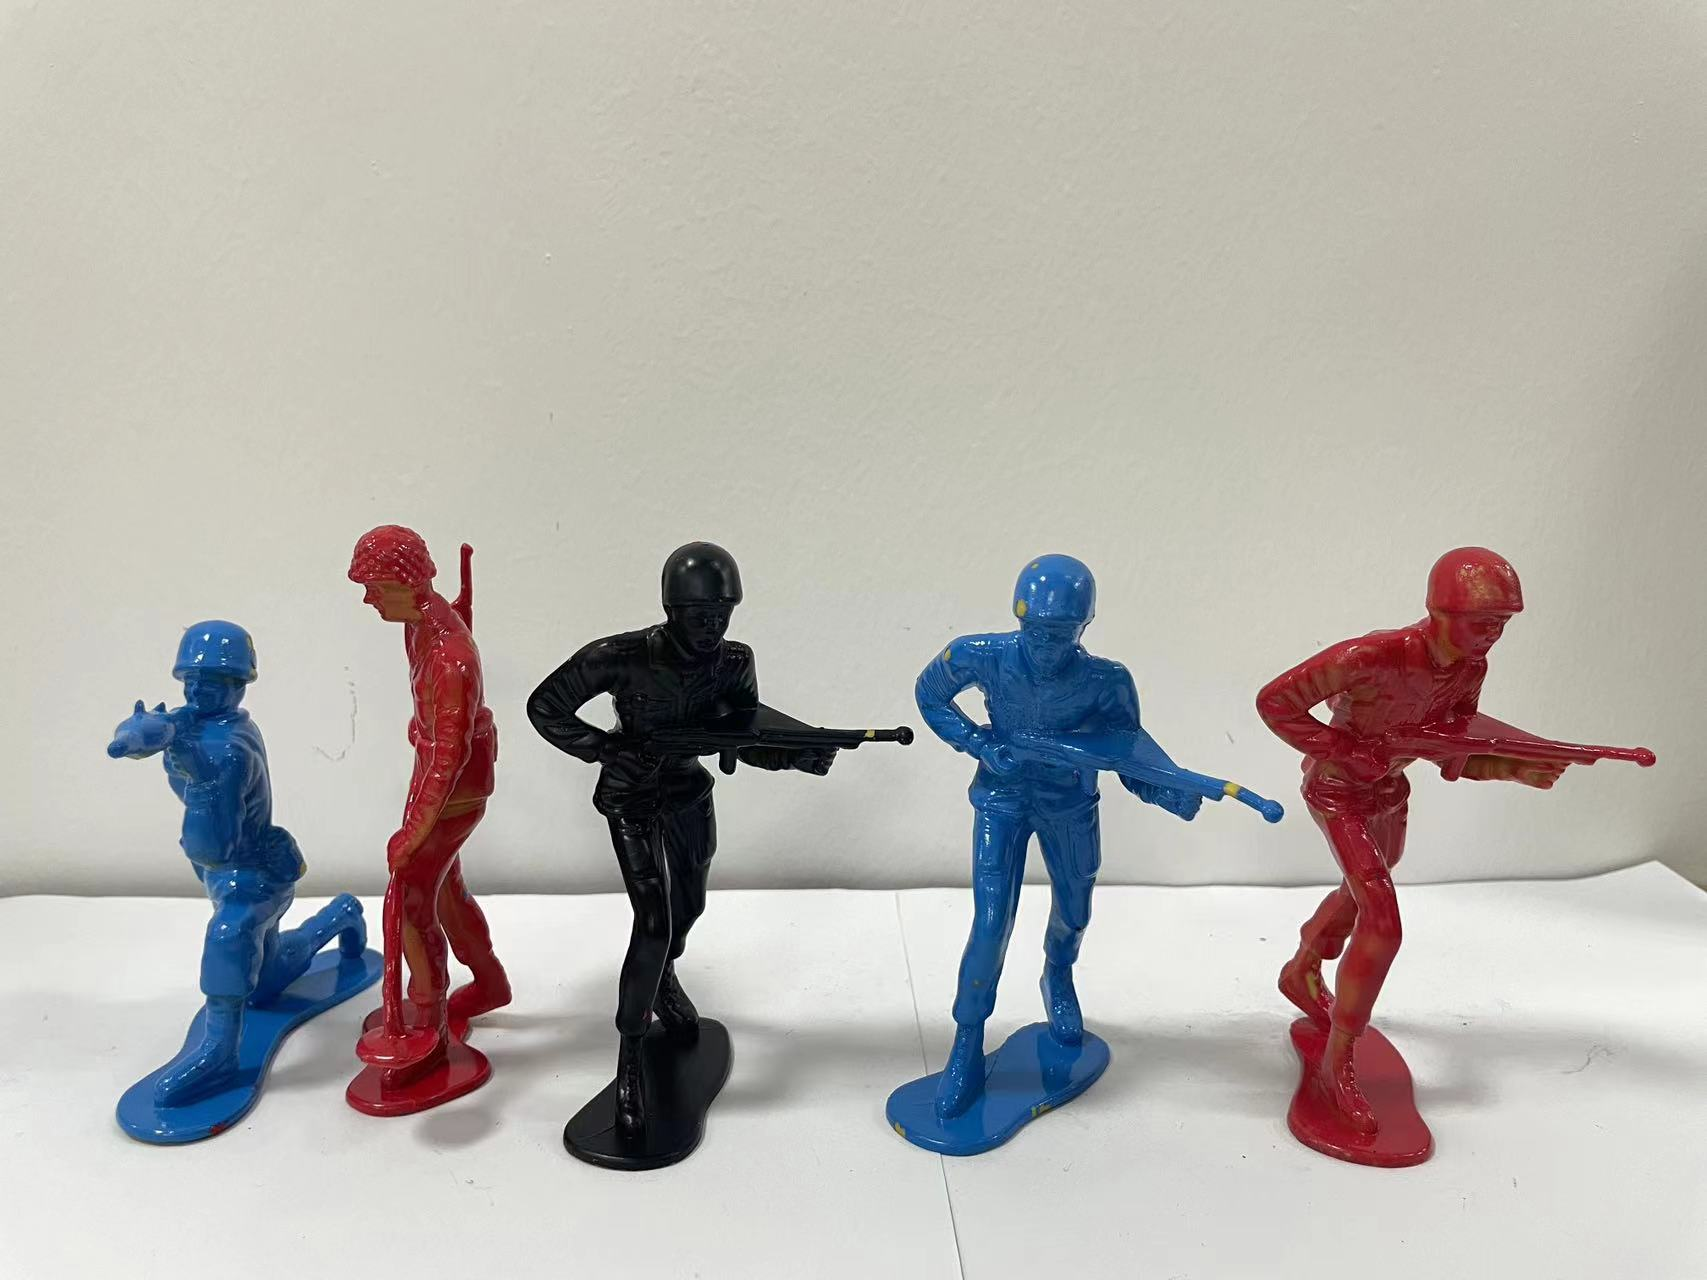black: (511, 519, 888, 1199)
blue: (874, 555, 1239, 1176), (94, 606, 352, 1185)
red: (1230, 543, 1663, 1203), (304, 502, 544, 1158)
